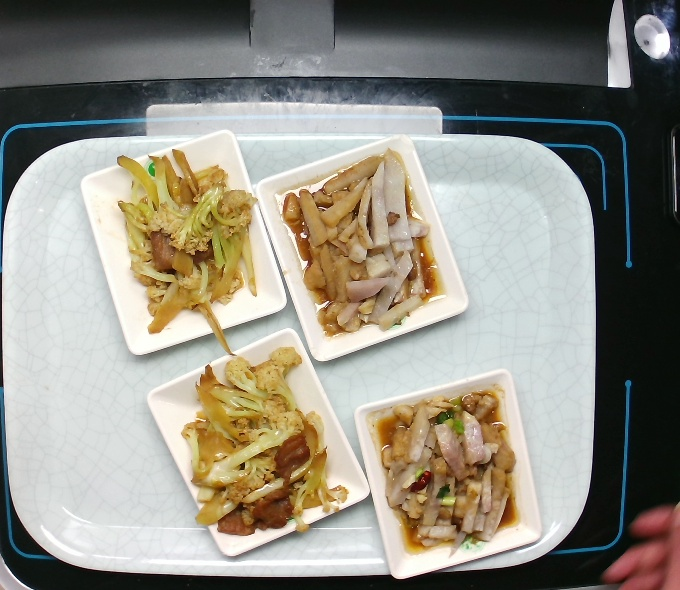wcq-QiuCaiChaoRou: (174, 345, 353, 549), (110, 142, 263, 344)
wcq-YuTou: (278, 148, 436, 342), (369, 378, 519, 563)
